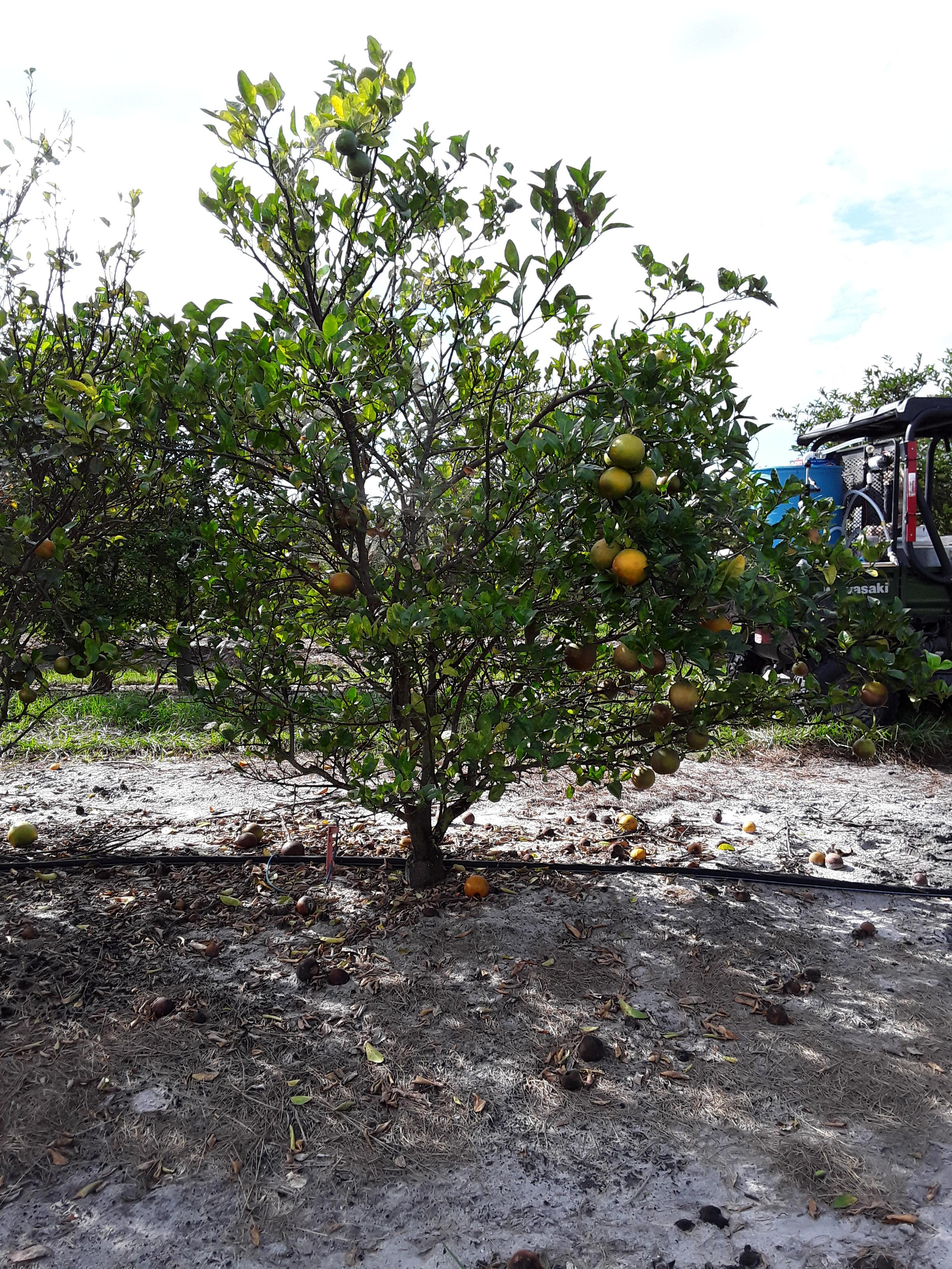fruit_on_ground: (606, 431, 647, 469), (612, 547, 650, 586), (587, 535, 623, 569), (563, 639, 599, 672), (597, 465, 633, 498), (327, 124, 360, 157), (344, 149, 376, 180), (649, 745, 681, 776), (668, 680, 700, 711), (330, 500, 361, 530), (857, 679, 889, 708), (632, 462, 661, 493), (613, 640, 642, 670), (718, 552, 747, 581), (639, 646, 668, 675), (328, 568, 357, 596), (638, 757, 665, 786), (698, 614, 733, 636), (801, 522, 830, 548), (395, 736, 422, 762), (686, 724, 712, 750), (661, 468, 686, 495), (631, 764, 656, 791), (775, 537, 803, 561), (33, 537, 59, 562), (649, 702, 673, 728), (852, 737, 878, 761), (864, 634, 891, 655), (69, 659, 92, 681), (634, 718, 658, 738), (599, 676, 620, 697), (51, 654, 72, 675), (89, 652, 109, 674), (367, 520, 390, 539), (16, 685, 37, 704), (789, 659, 810, 678), (649, 348, 671, 366), (362, 500, 375, 522)
fruit_on_tree: (576, 1033, 609, 1064), (4, 818, 38, 848), (504, 1245, 545, 1269), (697, 1202, 729, 1228), (462, 872, 491, 900), (295, 956, 322, 982), (765, 1004, 793, 1028), (737, 1243, 763, 1268), (560, 1069, 585, 1094), (150, 994, 175, 1019), (279, 838, 307, 860), (853, 737, 879, 760), (325, 964, 351, 987), (294, 895, 317, 917), (242, 821, 265, 842), (201, 939, 224, 959), (235, 830, 259, 849), (618, 813, 639, 832), (18, 922, 38, 941), (801, 965, 822, 983), (784, 978, 804, 995), (607, 840, 626, 857), (628, 845, 647, 862), (825, 852, 843, 869), (858, 919, 877, 935), (808, 849, 826, 865), (156, 886, 173, 902), (913, 870, 929, 886), (686, 841, 704, 855), (461, 810, 477, 825), (716, 839, 733, 853), (598, 811, 614, 825), (742, 818, 757, 832), (733, 889, 749, 902), (173, 897, 187, 911), (711, 809, 725, 823), (585, 809, 599, 822), (686, 858, 701, 870), (235, 757, 250, 769), (668, 813, 682, 824), (47, 761, 61, 772), (542, 826, 555, 837), (563, 813, 575, 824), (579, 837, 591, 847)
